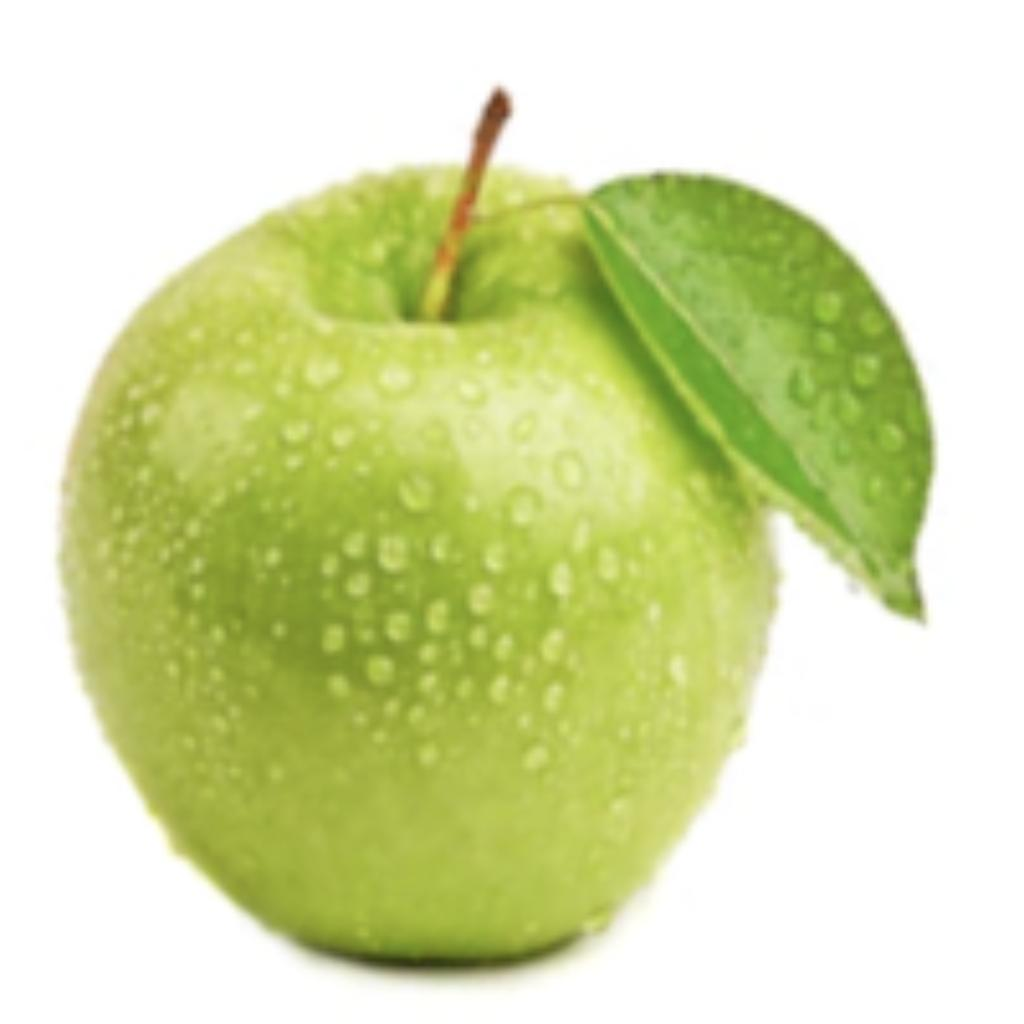apple: (46, 144, 937, 993)
